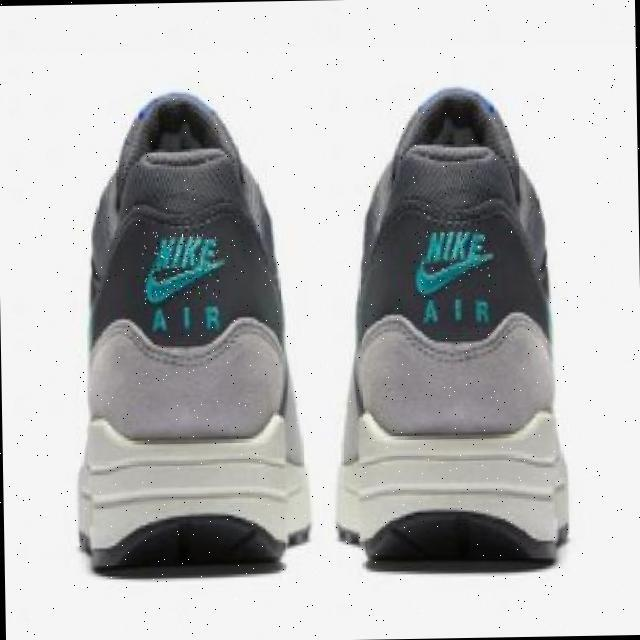Nike: (142, 231, 220, 300), (413, 228, 492, 292)
